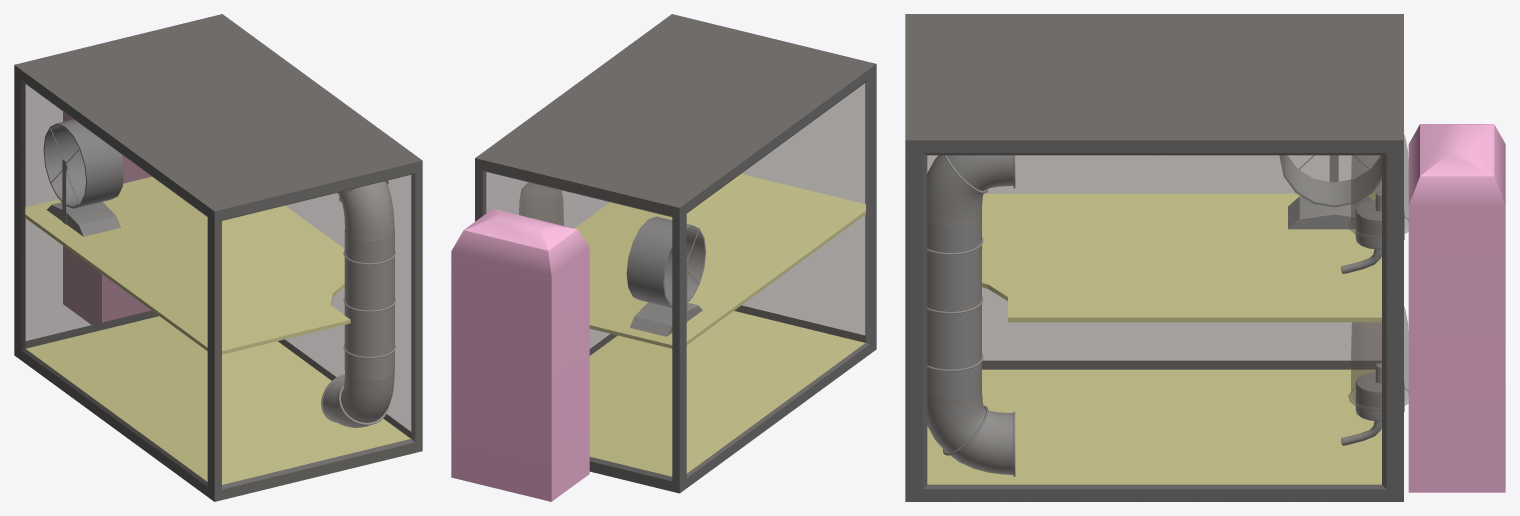
The model's file is CagePlaceholder.fbx.
The picture shows the model from 3 angles, left to right: view 1: azimuth 30°, elevation 25°; view 2: azimuth 150°, elevation 25°; view 3: azimuth 270°, elevation 25°; orthographic projection. The views are drawn at different scales.
Parts seen in each view (by area): view 1: Glass, Frame, Floor0, Floor1, Tube, Wheel_LP1, FeedingMachineBack, Wheel_Base_LP1; view 2: Glass, Frame, FeedingMachineBack, Floor0, Floor1, Wheel_LP1, FoodTubePlaceholder, Wheel_Base_LP1; view 3: Glass, Frame, Floor1, Floor0, FeedingMachineBack, Tube, DrinkingTube, FoodTubePlaceholder, Wheel_LP1, Wheel_Base_LP1.
Boxes of the visible parts, x1,y1,x2,y2 form: Glass: (14, 14, 422, 501); Frame: (14, 14, 422, 501); Floor0: (26, 316, 410, 484); Floor1: (25, 176, 350, 354); Tube: (321, 180, 395, 427); Wheel_LP1: (43, 119, 124, 208); FeedingMachineBack: (63, 111, 151, 324); Wheel_Base_LP1: (47, 159, 120, 236); Glass: (475, 14, 875, 492); Frame: (475, 14, 876, 493); FeedingMachineBack: (451, 209, 589, 501); Floor0: (589, 311, 864, 476); Floor1: (574, 174, 865, 348); Wheel_LP1: (626, 216, 705, 307); FoodTubePlaceholder: (519, 182, 563, 225); Wheel_Base_LP1: (630, 261, 702, 336); Glass: (905, 14, 1403, 501); Frame: (905, 14, 1403, 501); Floor1: (982, 193, 1381, 322); Floor0: (927, 369, 1381, 484); FeedingMachineBack: (1408, 124, 1505, 492); Tube: (927, 155, 1015, 476); DrinkingTube: (1341, 306, 1408, 445); FoodTubePlaceholder: (1341, 134, 1408, 273); Wheel_LP1: (1279, 155, 1381, 207); Wheel_Base_LP1: (1288, 155, 1371, 229).
Size of the model in its own units: 300 by 401 by 602.
